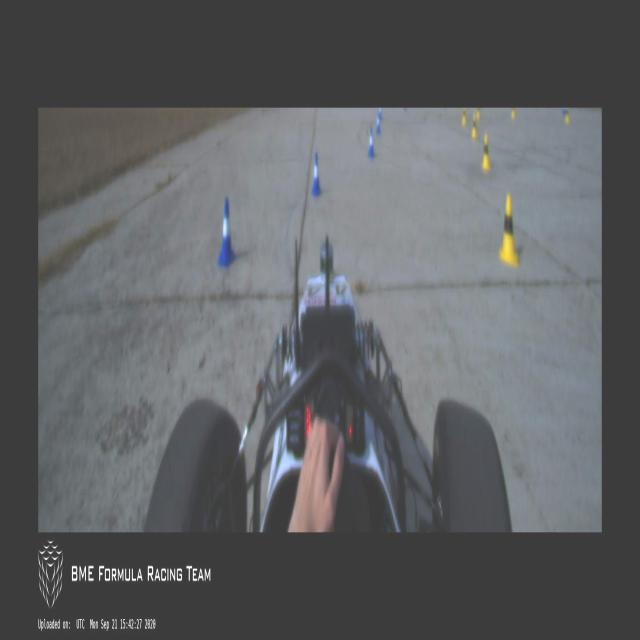blue_cone: (216, 196, 236, 270), (311, 152, 322, 196), (368, 128, 374, 158), (376, 114, 380, 136), (378, 108, 382, 120)
yellow_cone: (499, 192, 519, 268), (482, 134, 492, 171), (472, 116, 478, 140), (564, 111, 572, 127), (461, 108, 467, 126), (510, 108, 516, 120), (476, 108, 481, 120)
